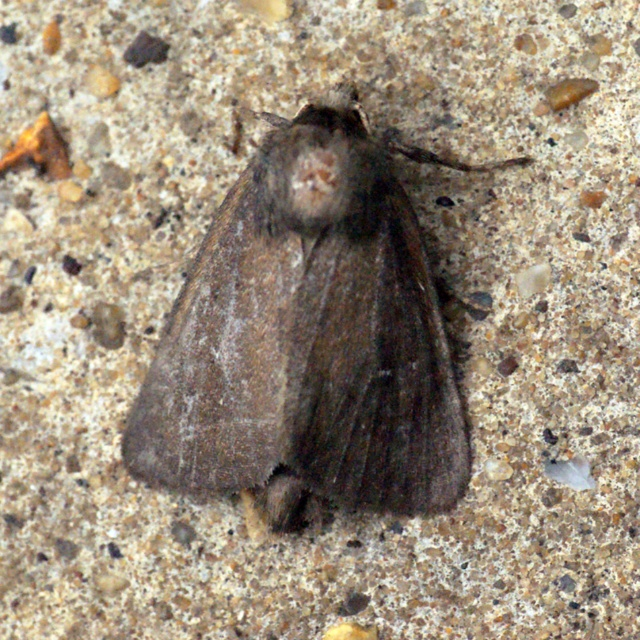Moths and butterflies: (116, 80, 533, 545)
